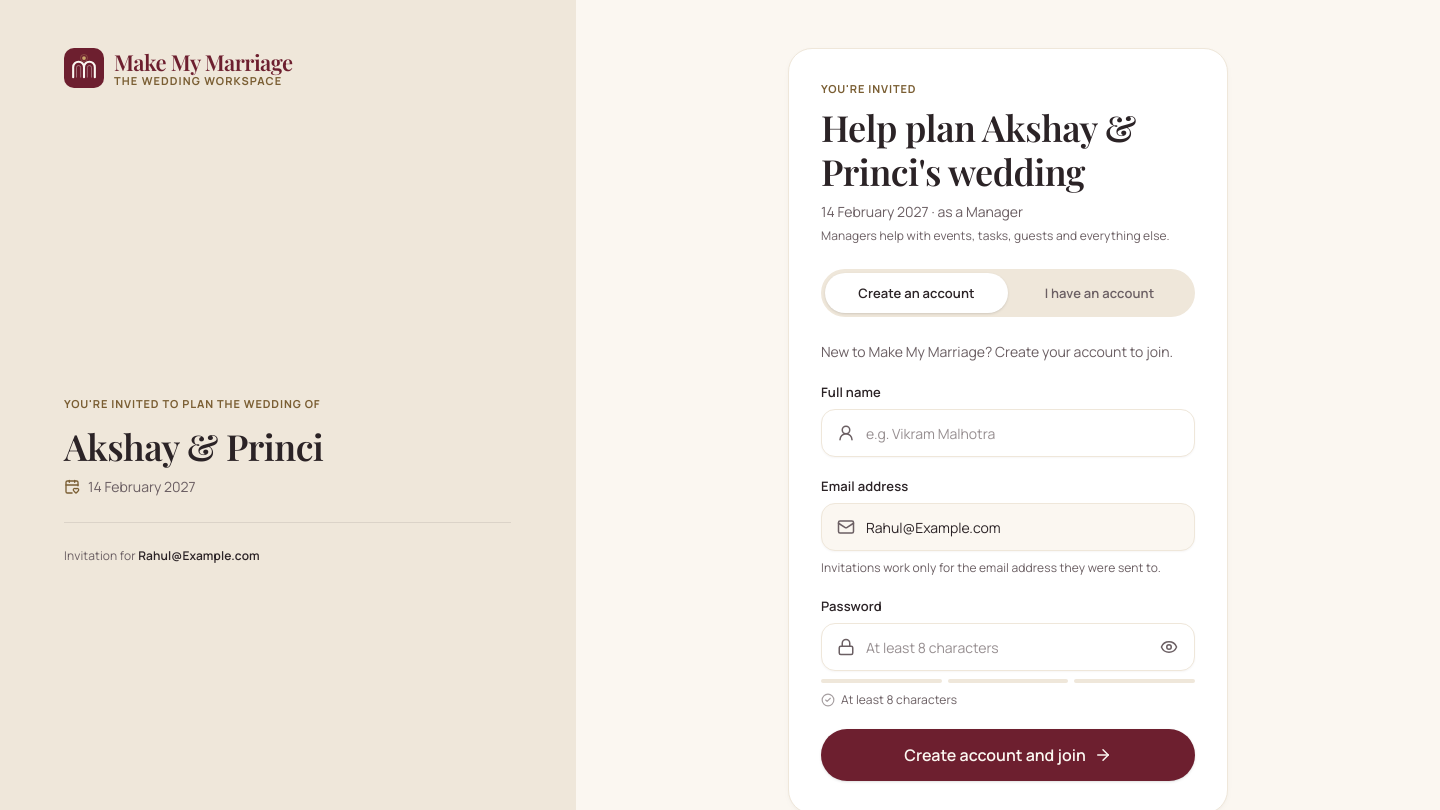
Test: <JoinScreen /> signed out › explains ALREADY_HAS_WEDDING straight after signing up
This screenshot has width=1440, height=810.
Type "Rahul Sharma" into the field labelled "Full name" at (1008,433), box [821,409,1195,457]
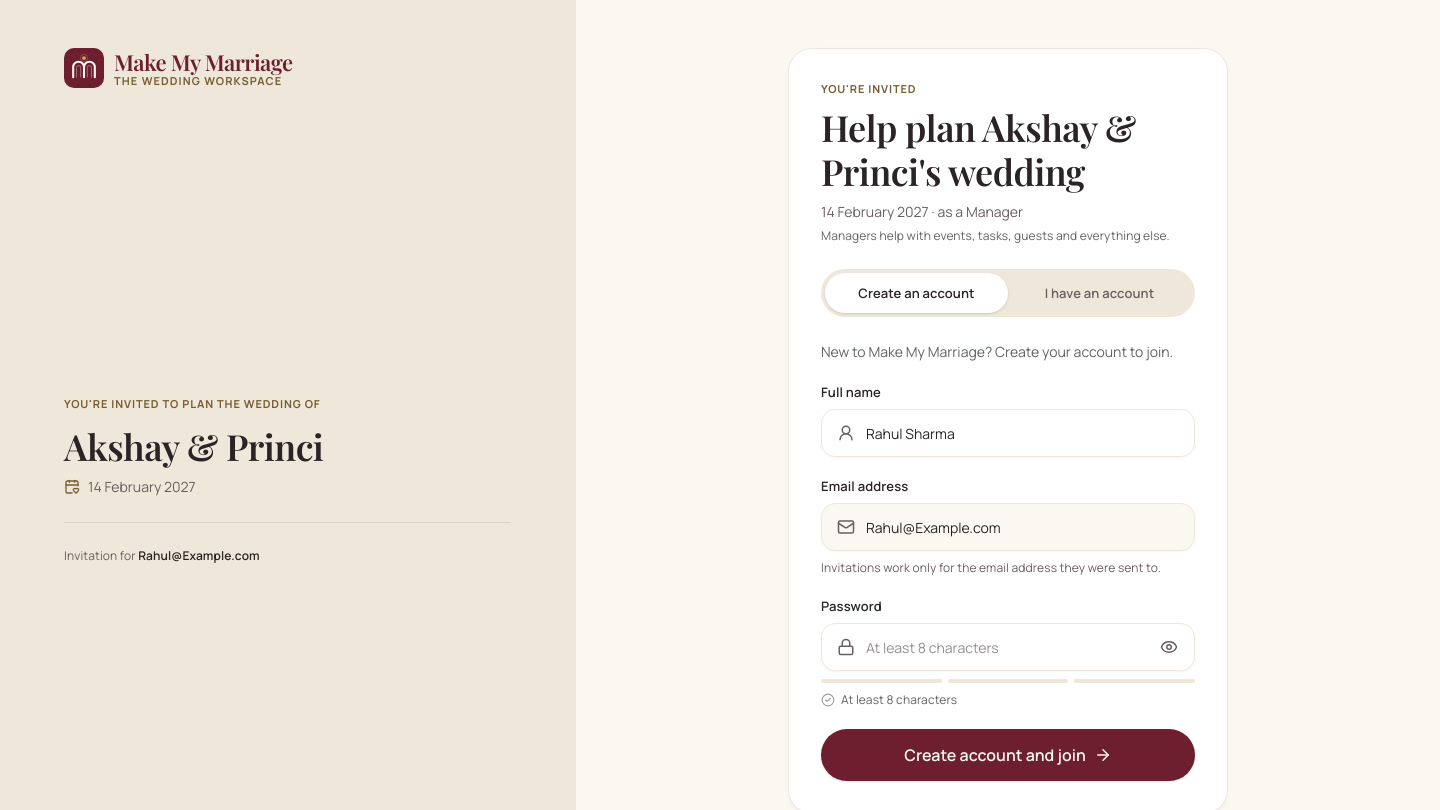
Type "correct horse battery" into the password field labelled "Password" at (1008,647), box [821,623,1195,671]
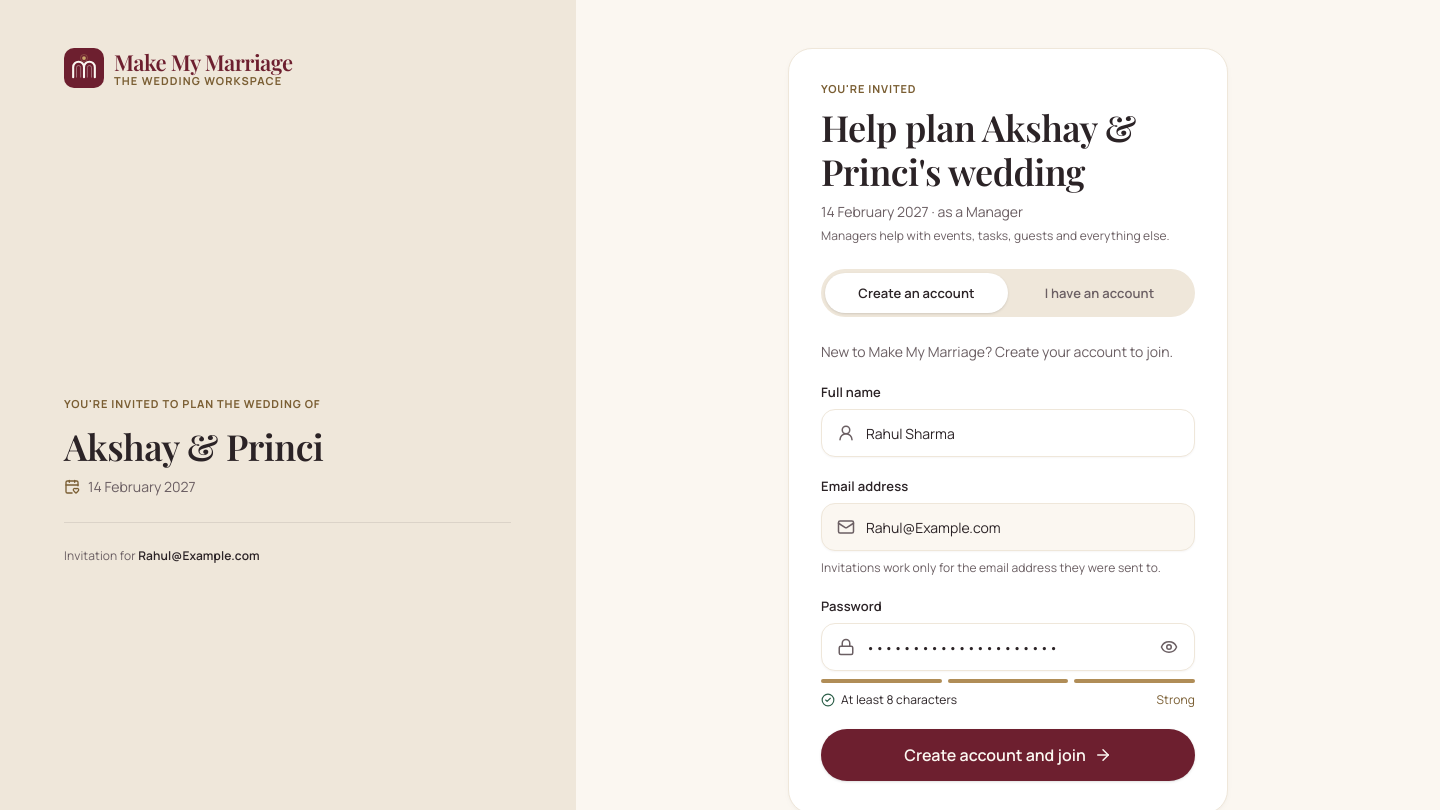
Click the button "Create account and join" at (1008,755), box [821,729,1195,781]
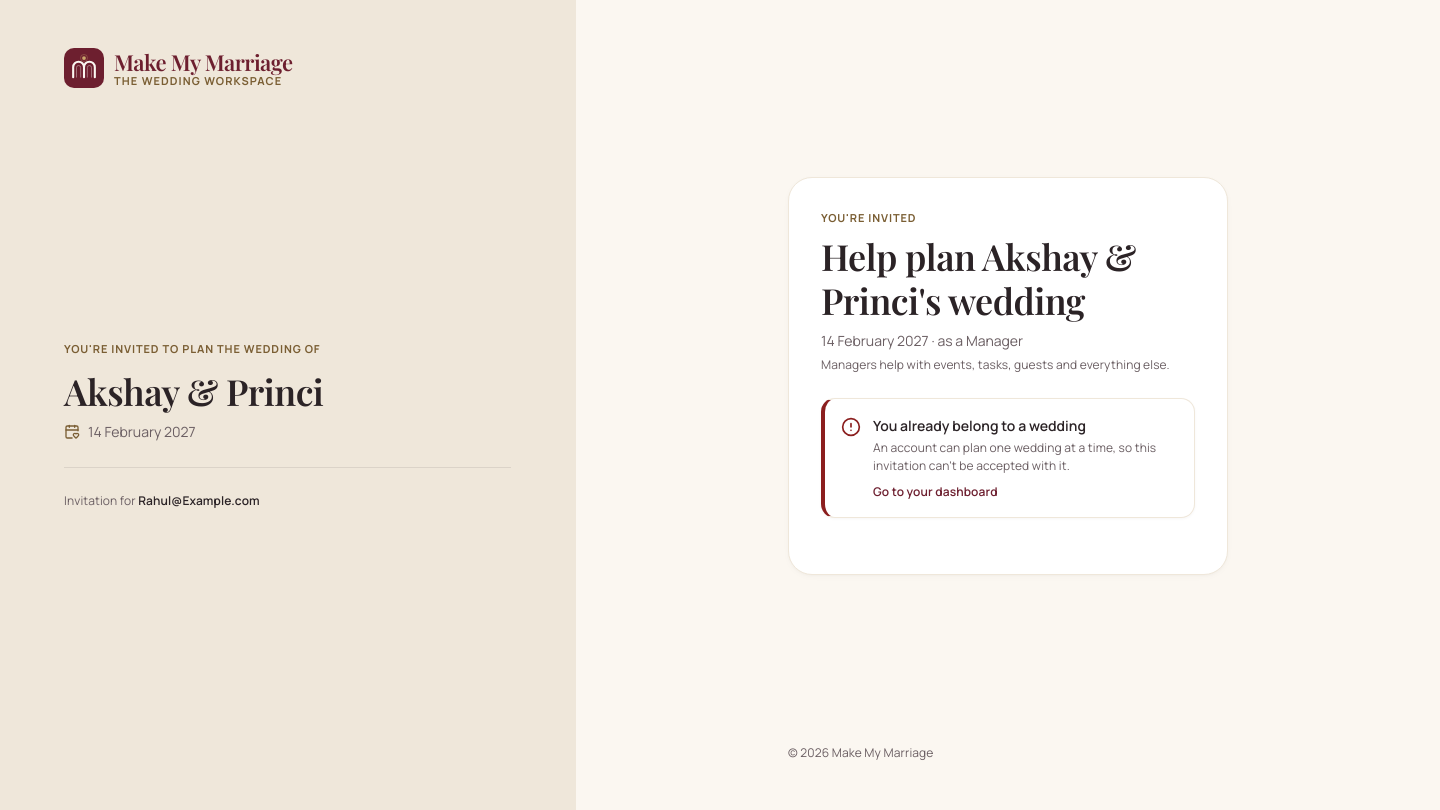
Now the text "You already belong to a wedding" is shown, box [873,416,1086,435]
